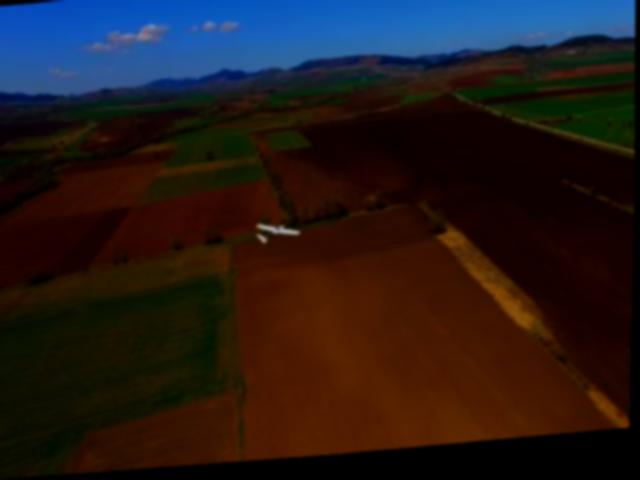uav: (252, 218, 307, 257)
